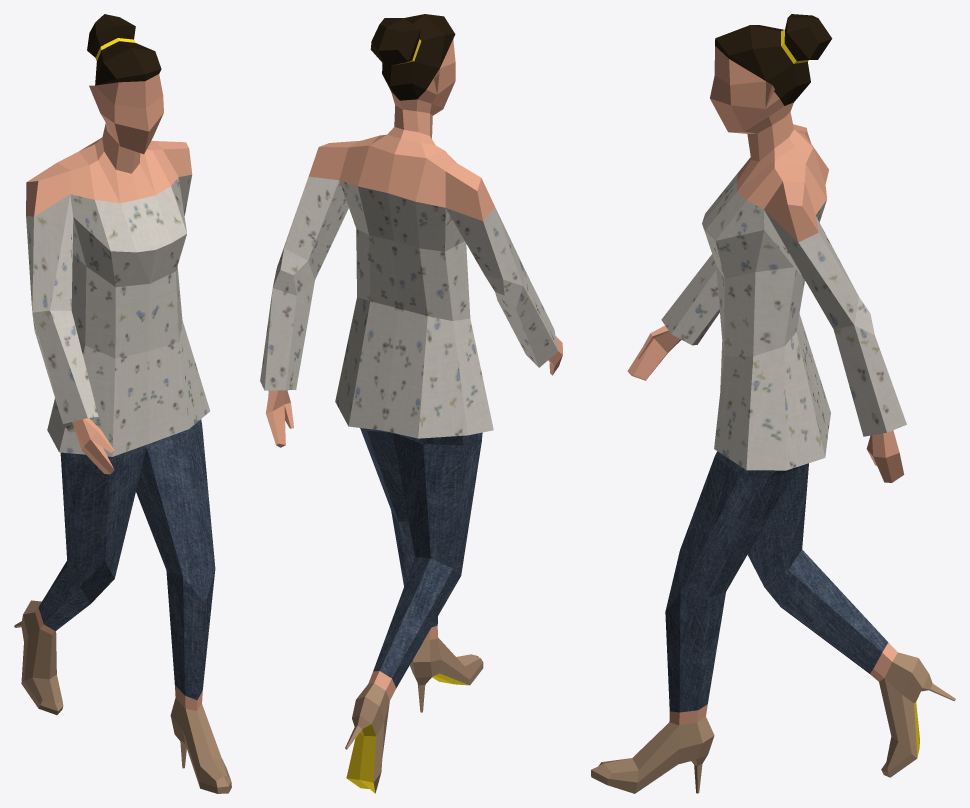
Rendered from SpringWomanA.003.glb.
The picture shows the model from 3 angles, left to right: view 1: azimuth 30°, elevation 25°; view 2: azimuth 150°, elevation 25°; view 3: azimuth 270°, elevation 25°; orthographic projection. The views are drawn at different scales.
Parts seen in each view (by area): view 1: SpringWomanA.003; view 2: SpringWomanA.003; view 3: SpringWomanA.003.
Boxes of the visible parts, x1,y1,x2,y2 form: SpringWomanA.003: (14, 14, 231, 793); SpringWomanA.003: (260, 14, 562, 793); SpringWomanA.003: (591, 14, 955, 793).
Bounding box in the file's own units: 0.4808 × 1.68 × 0.7272.
Materials: 1 (1 with a texture image).
